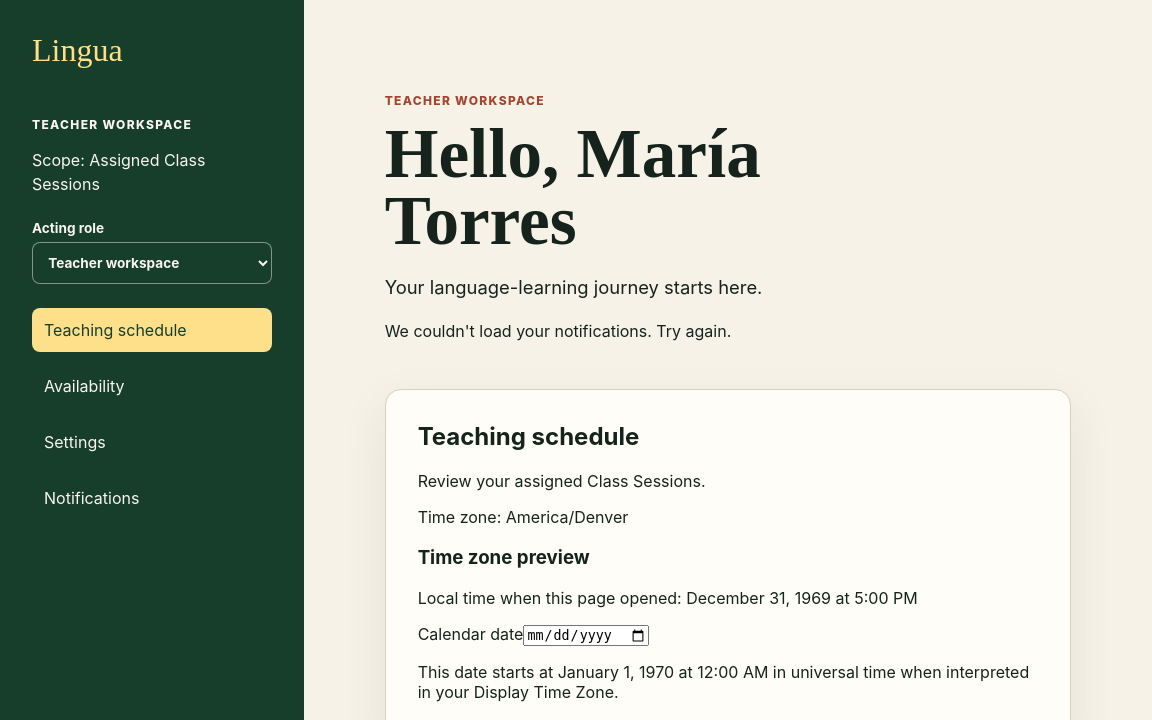
Test case: Role workspace navigation › remembers a journey before showing the selected place
expect the heading "Teaching schedule" is shown: met, box [418, 422, 639, 451]
Click the link "Availability".
click(84, 386)  # box [44, 376, 124, 396]
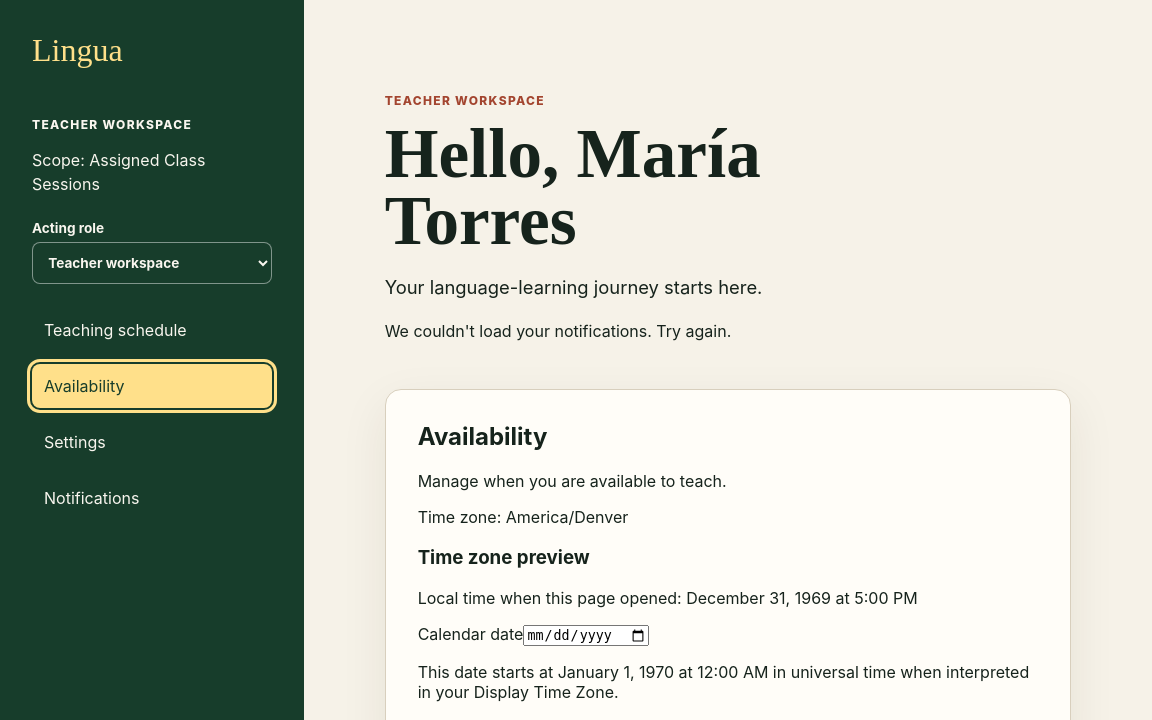
expect the heading "Availability" is shown: met, box [418, 422, 547, 451]
